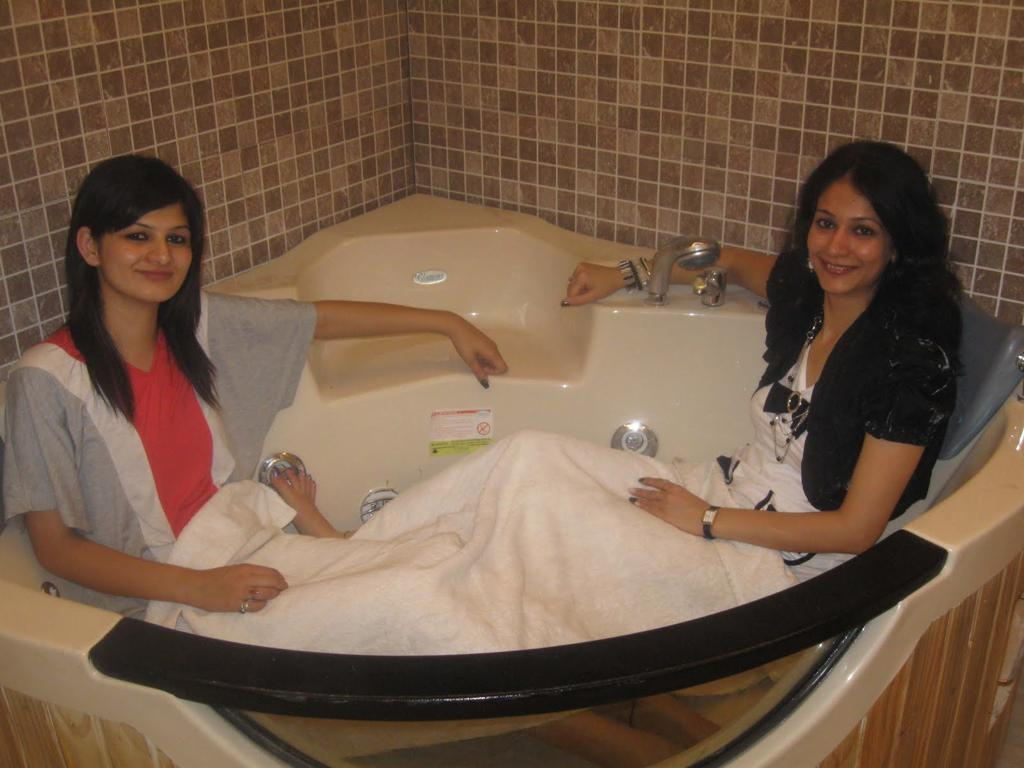face: (96, 190, 192, 300), (806, 182, 890, 292)
